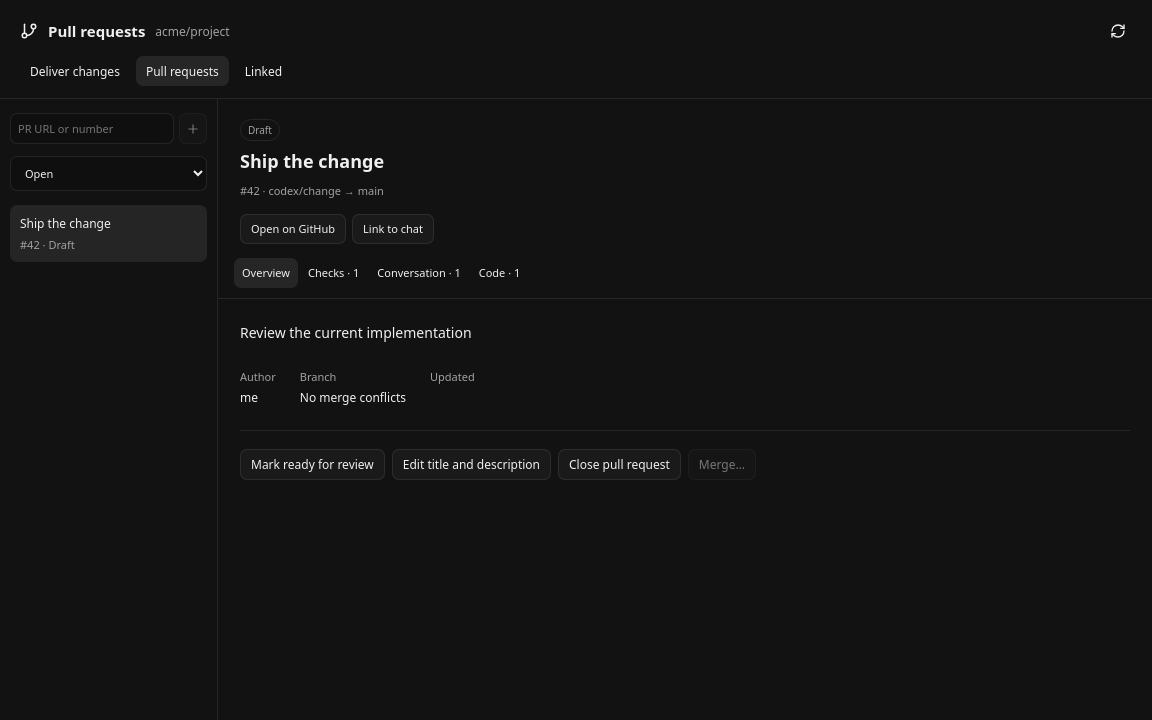
Scenario: native PR delivery Preview tab › renders remote discussion text as text and keeps diff changes in the tab
Expected: the heading "Ship the change" is shown, [240, 149, 384, 173]
Click the button "Conversation · 1". click: coordinates (419, 273)
box: [369, 258, 469, 288]
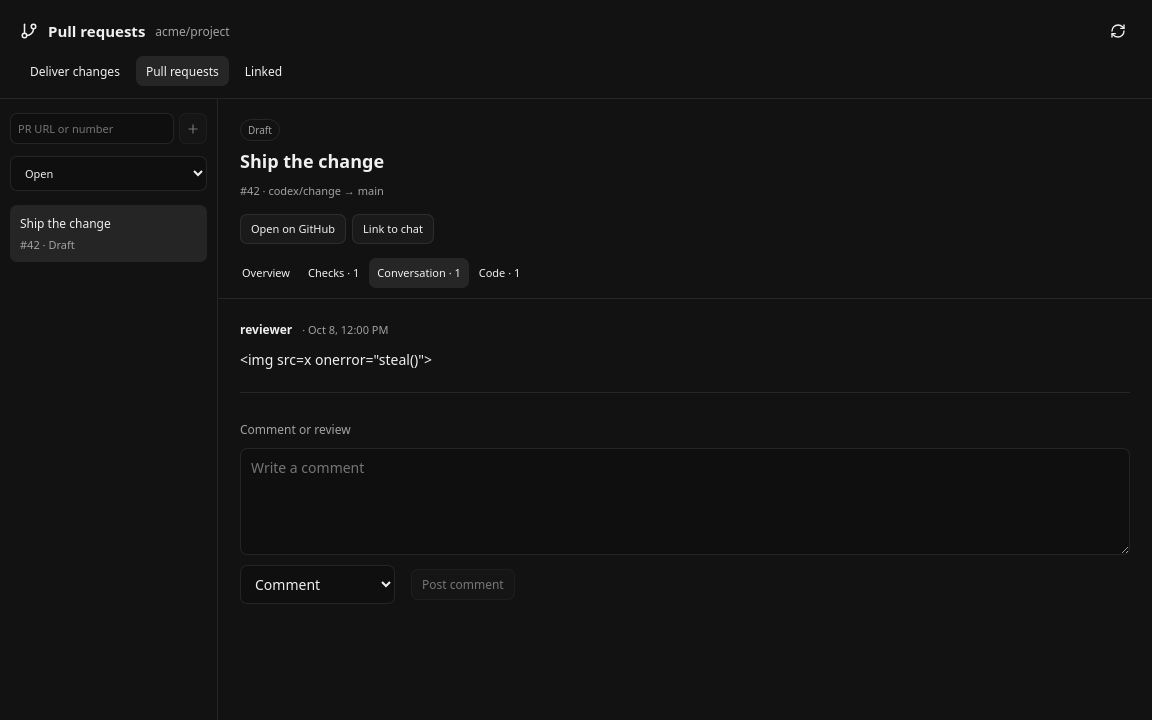
Expected: the text "<img src=x onerror=\"steal()\">" is shown, [240, 350, 432, 369]
Click the button "Code · 1". click: coordinates (499, 273)
box: [471, 258, 528, 288]
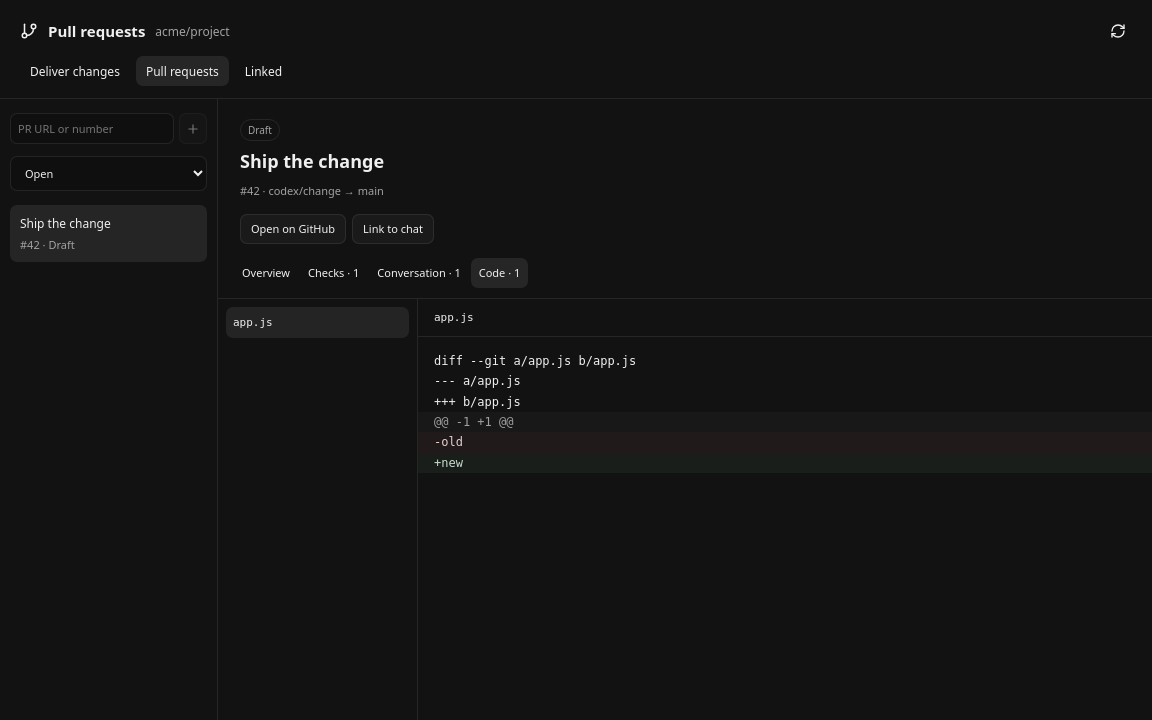
Expected: the element named "Pull request diff" shows "+new", [434, 456, 463, 470]
